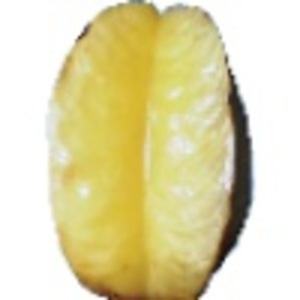carambola: (48, 1, 257, 300)
